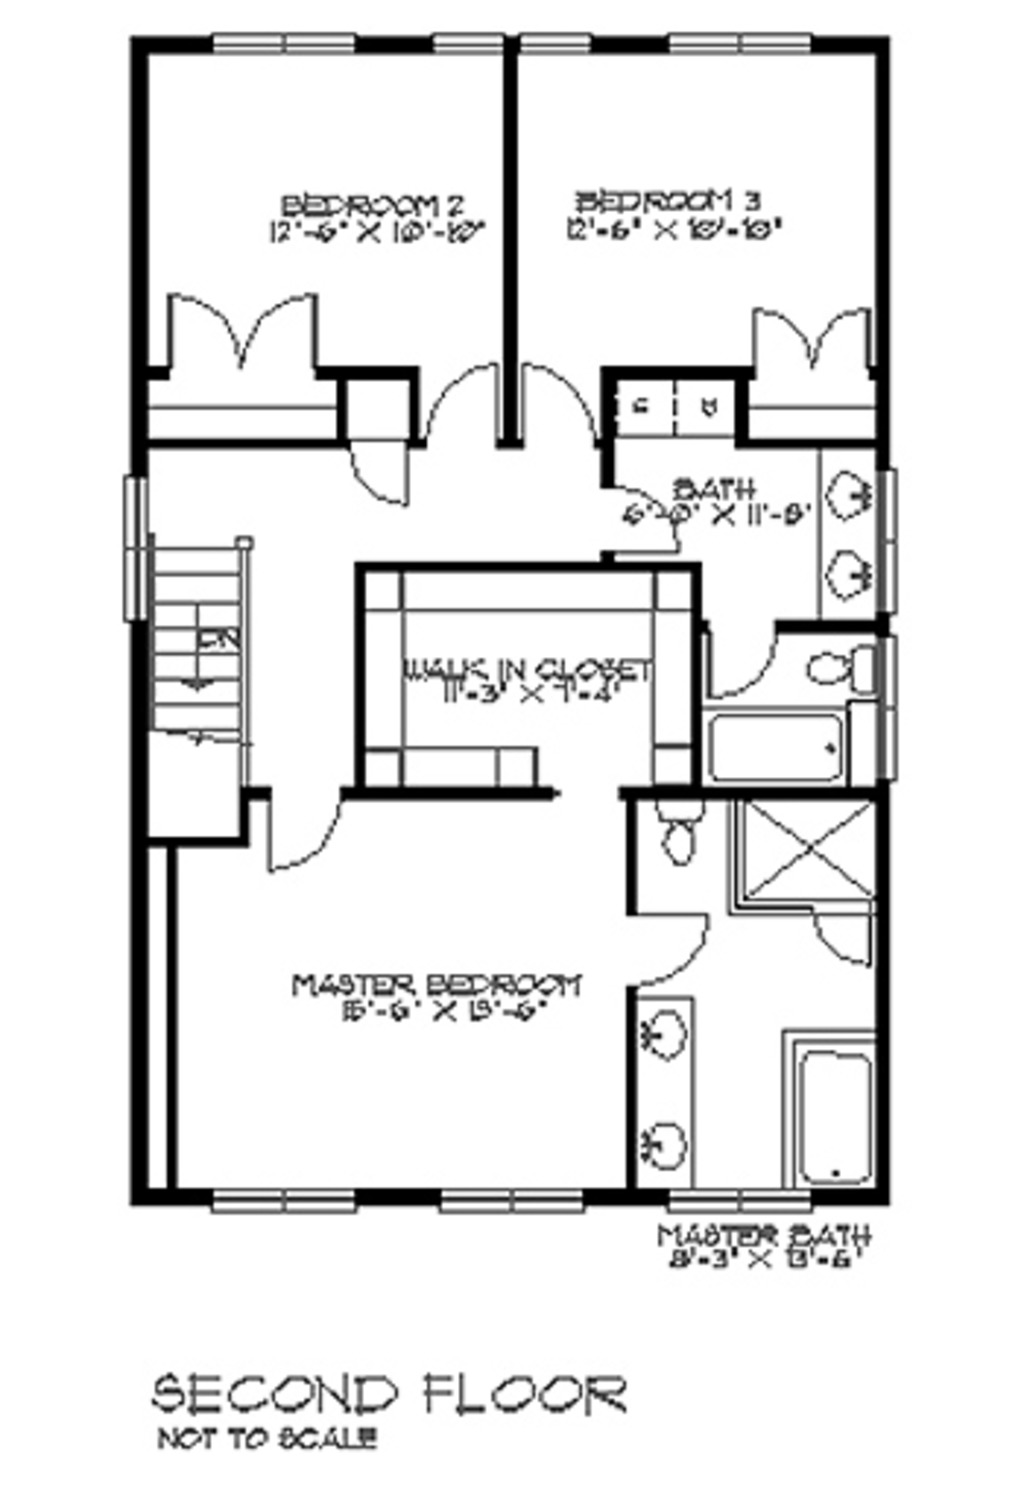door: (153, 270, 334, 377), (736, 294, 872, 401), (405, 351, 505, 451), (248, 781, 343, 872), (515, 344, 593, 451), (698, 608, 786, 696), (600, 480, 693, 558), (624, 903, 712, 984), (343, 434, 422, 515), (811, 903, 881, 970)
large_sink: (795, 625, 901, 699), (648, 803, 710, 865)
small_sink: (624, 984, 698, 1180), (819, 444, 886, 608)
stairs: (138, 544, 262, 845)
tub: (767, 1018, 891, 1184), (698, 702, 885, 784)
window: (200, 1175, 374, 1225), (203, 18, 369, 69), (665, 1180, 829, 1231), (424, 1172, 581, 1223), (512, 6, 613, 69), (669, 25, 827, 61), (427, 22, 510, 56)
